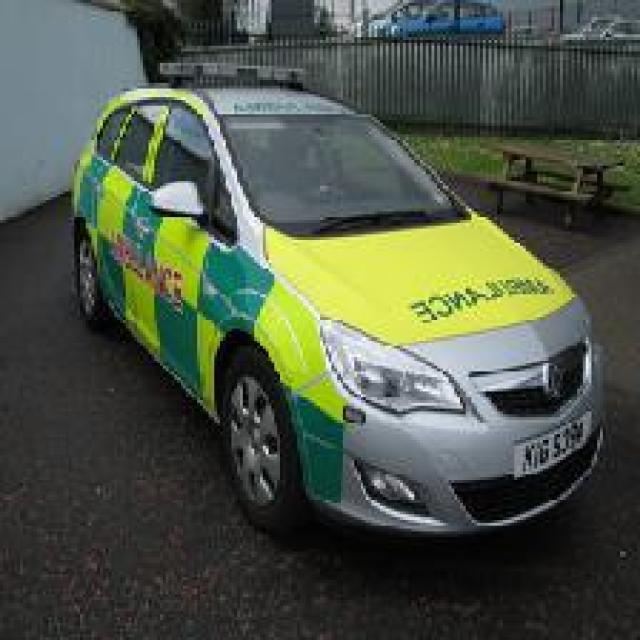emergency: (66, 81, 608, 546)
